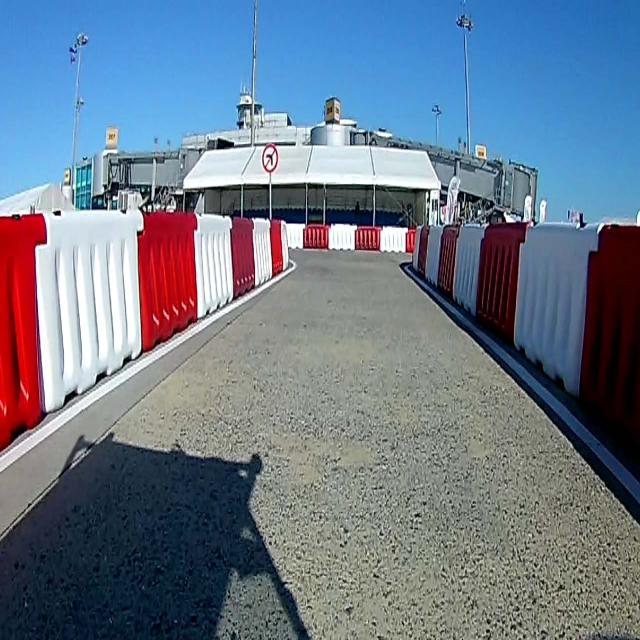soladonulmez: (262, 144, 277, 172)
